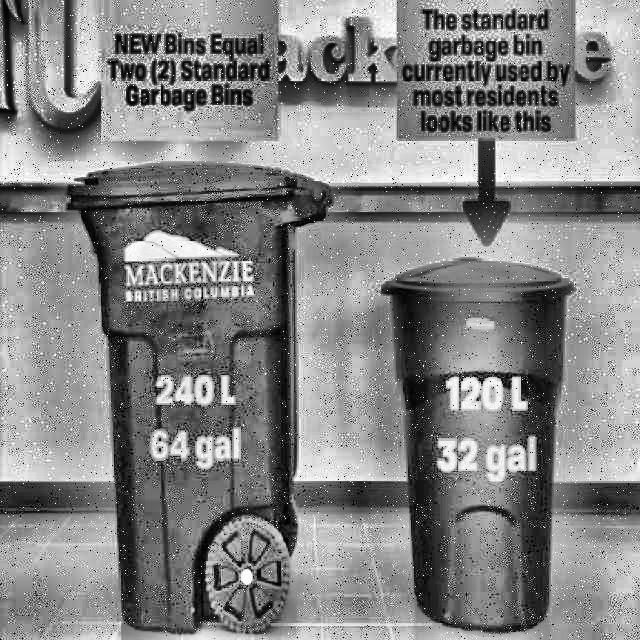Dustbin: (61, 160, 342, 638), (373, 246, 602, 640)
